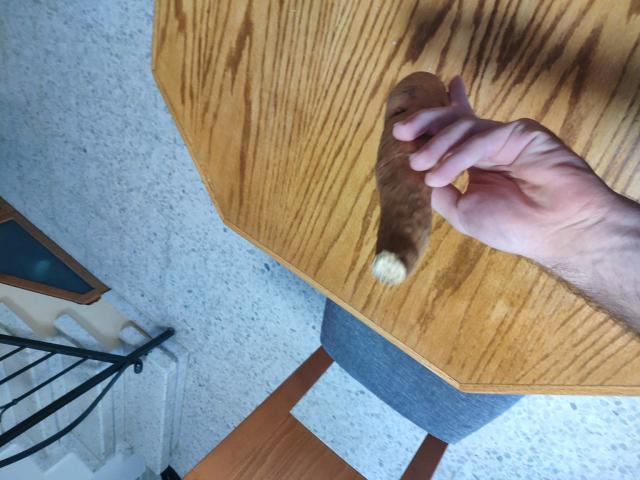sweet_potato: (372, 71, 438, 301)
